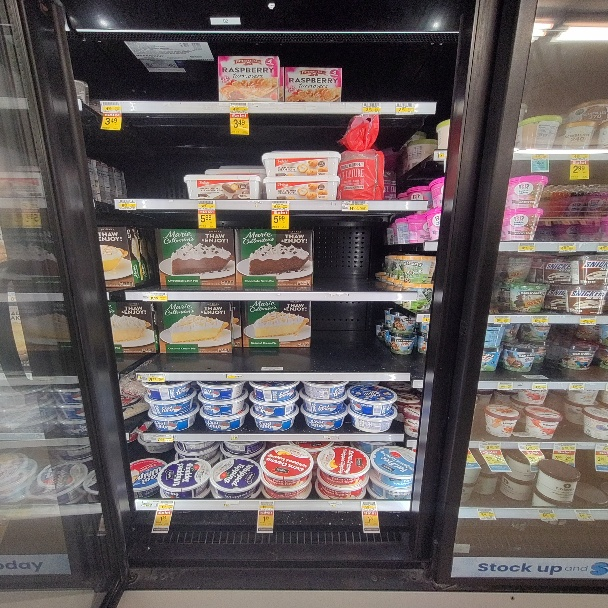All PRICE TAGS: (138, 373, 164, 382), (394, 102, 417, 112), (143, 292, 168, 301), (341, 202, 367, 210), (517, 442, 540, 451), (101, 101, 121, 111), (363, 102, 382, 112), (228, 102, 249, 111), (538, 509, 555, 520), (477, 508, 495, 518), (478, 442, 500, 450), (270, 200, 289, 209), (575, 510, 592, 520), (555, 443, 576, 451), (519, 242, 535, 252), (118, 201, 137, 209), (559, 243, 575, 252), (197, 200, 215, 208), (157, 501, 174, 509), (532, 316, 547, 325), (581, 316, 596, 325), (362, 501, 377, 510), (570, 154, 589, 161), (146, 434, 172, 439), (494, 316, 510, 324), (259, 501, 275, 509), (498, 382, 513, 390), (141, 501, 154, 509), (570, 383, 584, 390), (533, 383, 547, 390), (595, 444, 607, 452), (530, 155, 548, 160), (598, 244, 607, 251)
